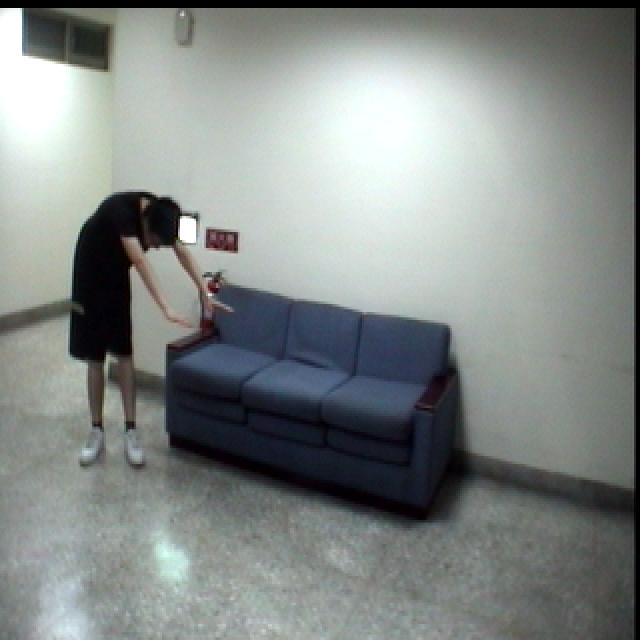bend: (62, 186, 233, 476)
